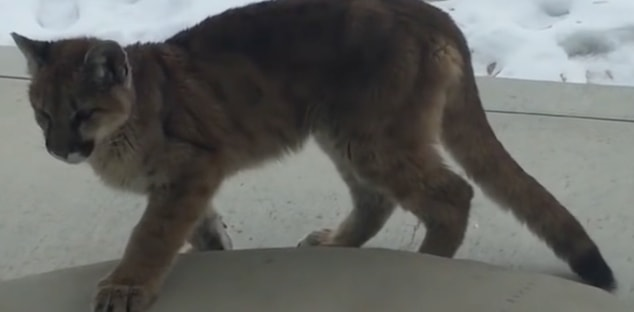Mountain Lion: (5, 6, 620, 311)
